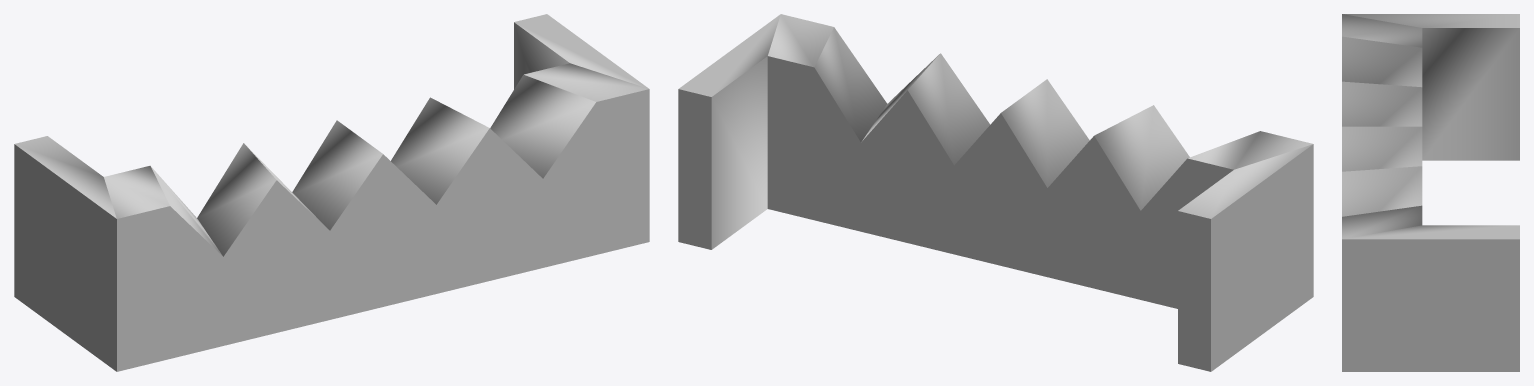
File: FrontBump2.fbx
3 views of the same model, side by side, from view 1: azimuth 30°, elevation 25°; view 2: azimuth 150°, elevation 25°; view 3: azimuth 270°, elevation 25° (orthographic). The views are drawn at different scales.
Parts seen in each view (by area): view 1: FrontBump2; view 2: FrontBump2; view 3: FrontBump2.
Boxes of the visible parts, x1,y1,x2,y2 form: FrontBump2: (14, 14, 649, 371); FrontBump2: (678, 14, 1313, 371); FrontBump2: (1342, 14, 1519, 371).
Bounding box in the file's own units: 1.55 × 0.5153 × 0.4241.
